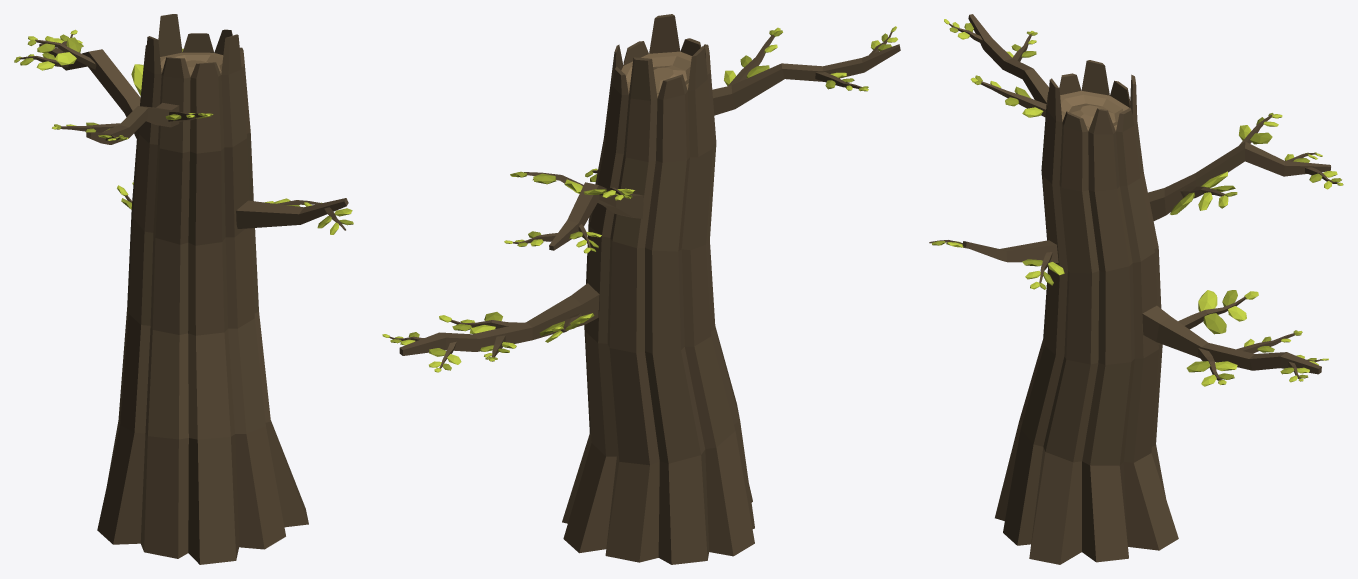
Rendered from tree_I 1.fbx.
The picture shows the model from 3 angles, left to right: view 1: azimuth 30°, elevation 25°; view 2: azimuth 150°, elevation 25°; view 3: azimuth 270°, elevation 25°; orthographic projection. The views are drawn at different scales.
Parts seen in each view (by area): view 1: 1_tree_I; view 2: 1_tree_I; view 3: 1_tree_I.
Part boxes in pixels (box(x1,y1,x2,y2)): 1_tree_I: box(14, 14, 353, 564); 1_tree_I: box(382, 14, 900, 564); 1_tree_I: box(929, 14, 1343, 564).
Size of the model in its own units: 3.86 by 5.37 by 4.49.
